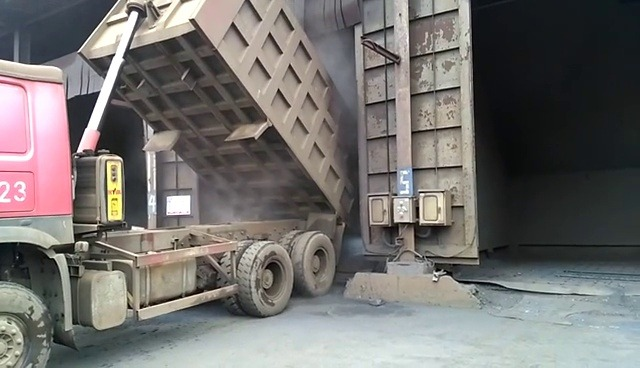dust: (162, 162, 302, 228), (299, 7, 371, 120)
truck: (0, 0, 360, 366)
